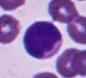L: (23, 20, 63, 59)
